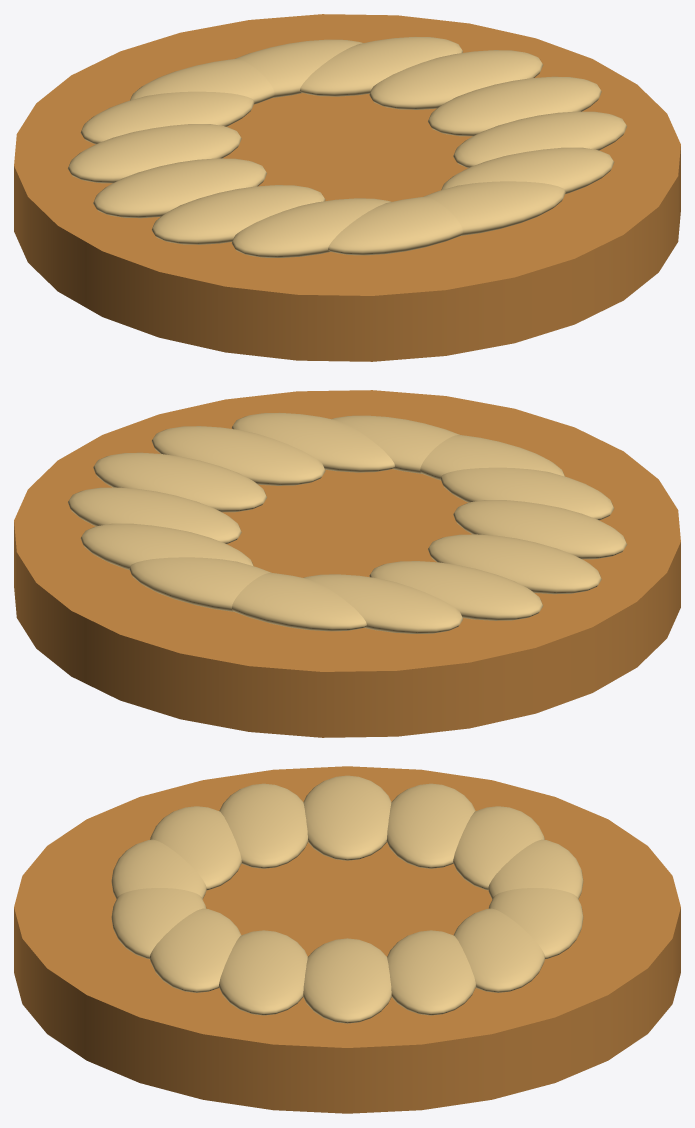
File: wp-tarte-aux-pommes.glb
3 views of the same model, one above another, from view 1: azimuth 30°, elevation 25°; view 2: azimuth 150°, elevation 25°; view 3: azimuth 270°, elevation 25° (orthographic).
Visible parts, largest first — view 1: wp-tarte-aux-pommes; view 2: wp-tarte-aux-pommes; view 3: wp-tarte-aux-pommes.
Boxes of the visible parts, box(x1,y1,x2,y2) form: wp-tarte-aux-pommes: box(14, 14, 680, 361); wp-tarte-aux-pommes: box(14, 390, 680, 737); wp-tarte-aux-pommes: box(14, 766, 680, 1113).
Bounding box in the file's own units: 0.28 × 0.04 × 0.28.
